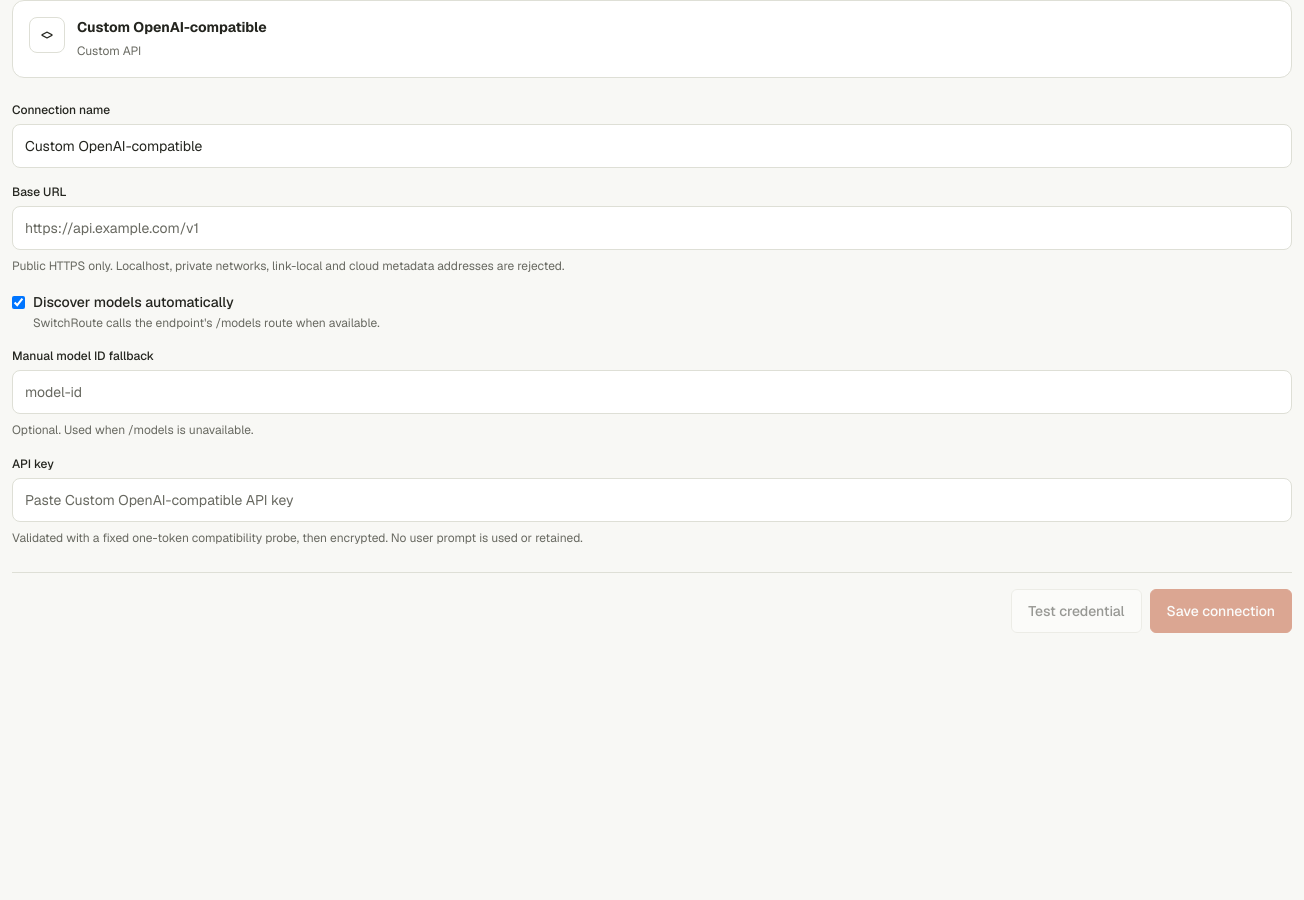
sends public endpoint configuration for custom OpenAI connections
Type "https://models.example/v1" into the field labelled "Base URL". click: (652, 228)
box: x1=12 y1=206 x2=1292 y2=250
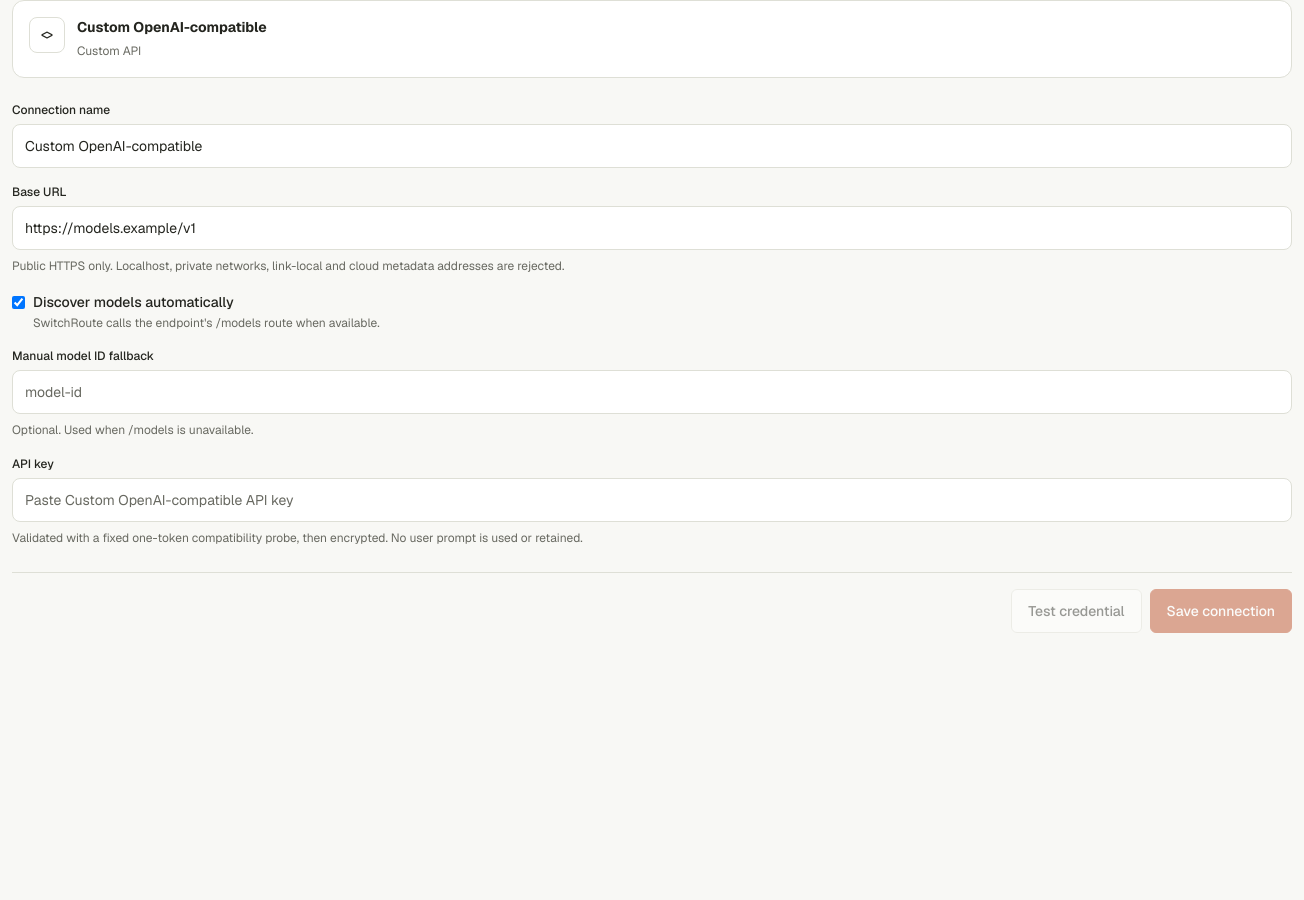
Type "secret-key" into the password field labelled "API key". click: (652, 500)
box: x1=12 y1=478 x2=1292 y2=522
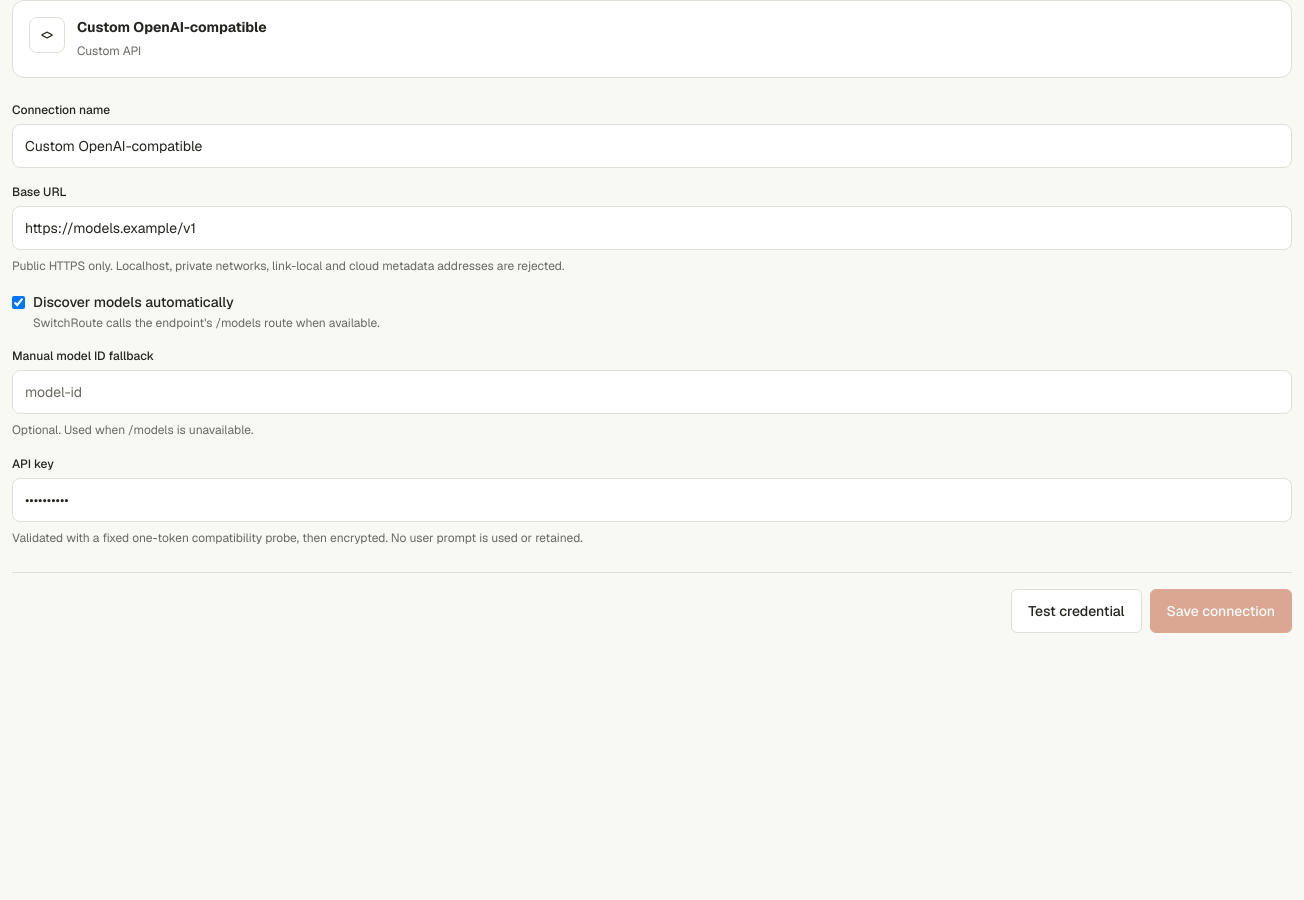
Click the button "Test credential". click: (1076, 611)
box: x1=1011 y1=589 x2=1142 y2=633
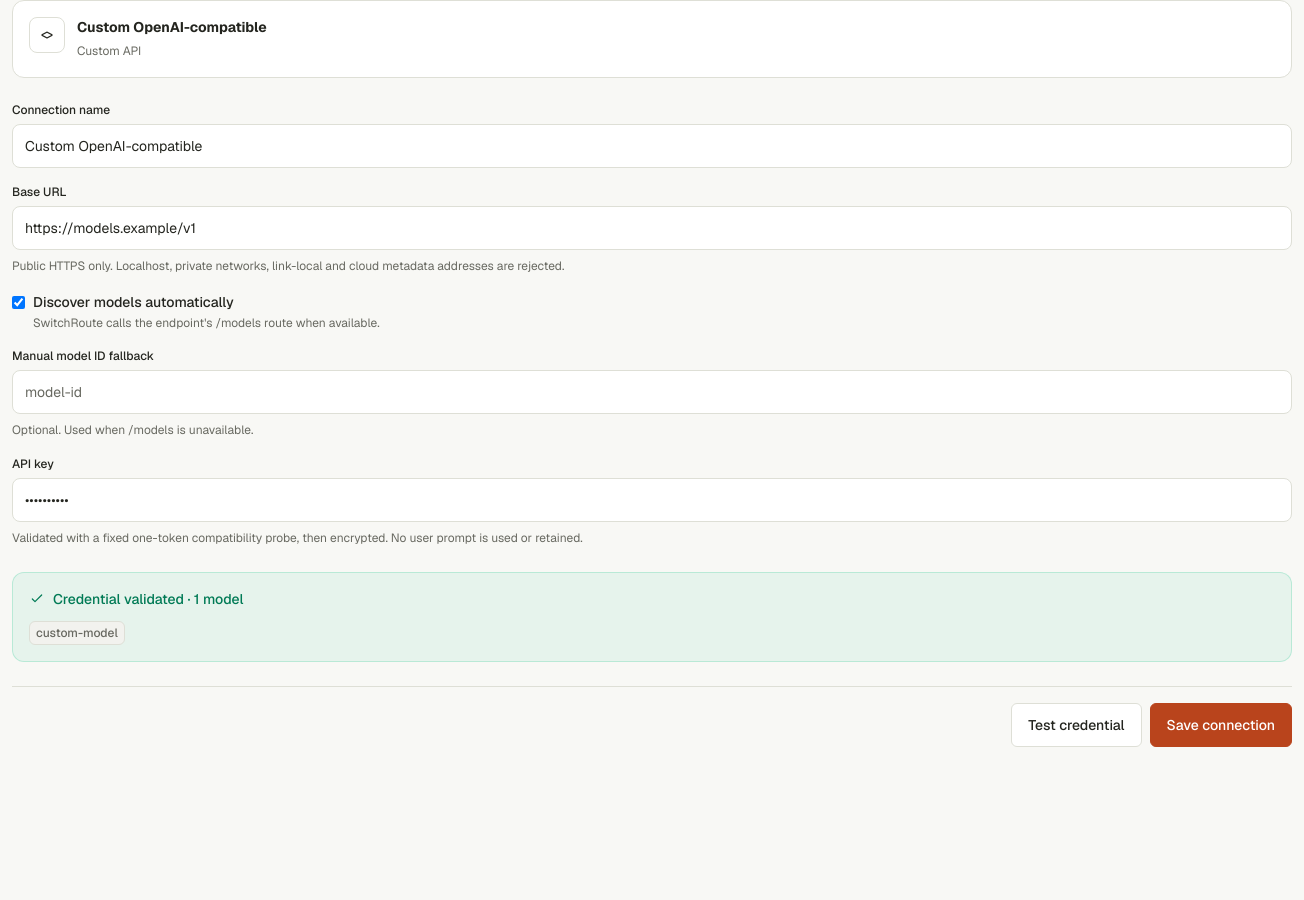
Result: the text "Credential validated · 1 model" is shown at x1=29 y1=590 x2=244 y2=608
